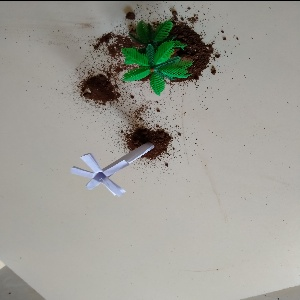plant: (119, 24, 196, 92)
weed: (70, 142, 159, 199)
